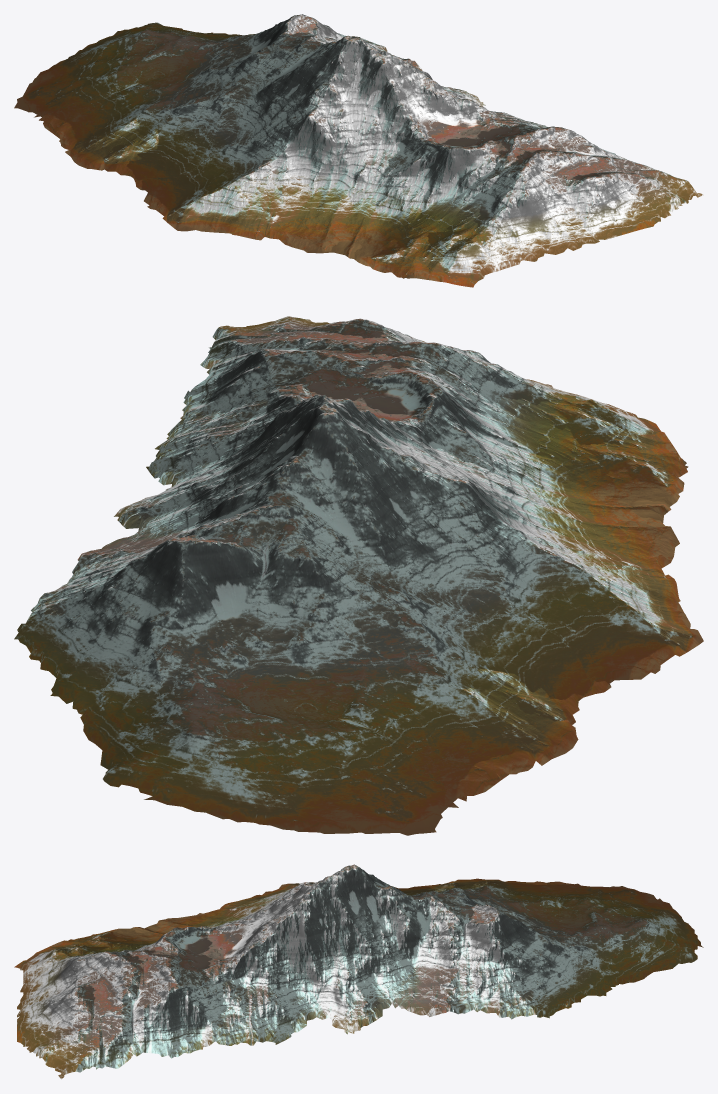
File: Free_Mountain_update.fbx
3 views of the same model, one above another, from view 1: azimuth 30°, elevation 25°; view 2: azimuth 150°, elevation 25°; view 3: azimuth 270°, elevation 25° (orthographic). The views are drawn at different scales.
Parts seen in each view (by area): view 1: Free_Mountain; view 2: Free_Mountain; view 3: Free_Mountain.
Boxes of the visible parts, x1,y1,x2,y2 form: Free_Mountain: (14,14,703,287); Free_Mountain: (14,316,703,835); Free_Mountain: (14,864,703,1079).
Size of the model in its own units: 13585 by 3660 by 18711.
1 material, 1 textured.
